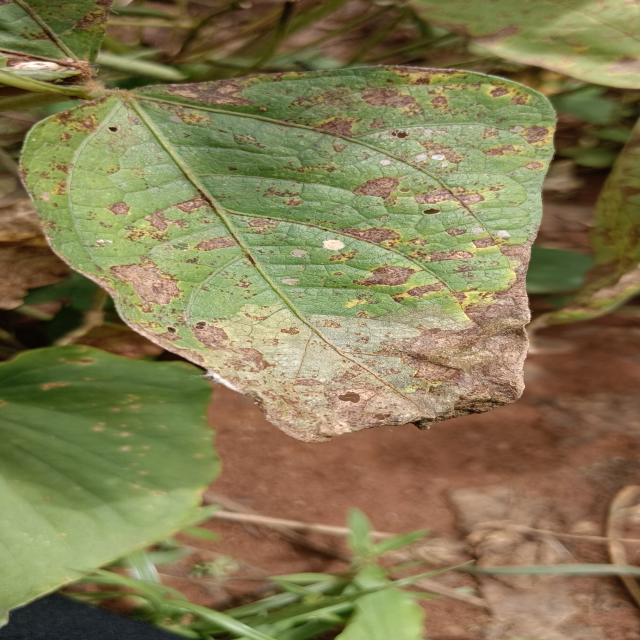Black gram_leaf spot: (11, 62, 568, 448)
